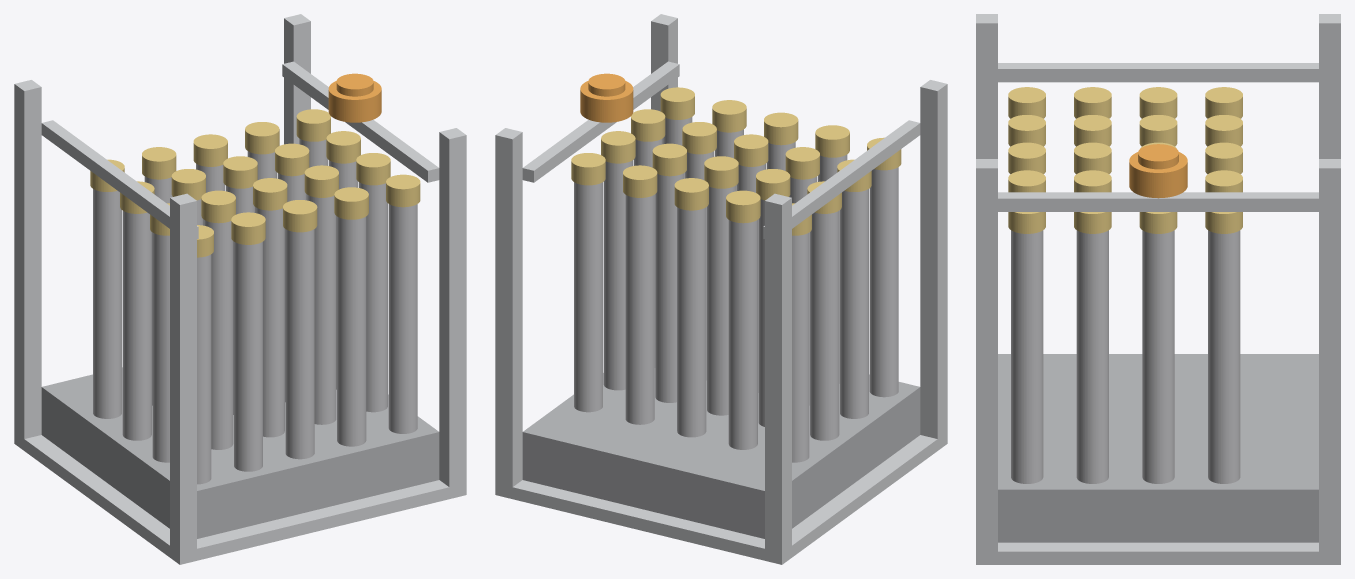
Rendered from sci06_sample_cache_cache.glb.
3 views of the same model, side by side, from view 1: azimuth 30°, elevation 25°; view 2: azimuth 150°, elevation 25°; view 3: azimuth 270°, elevation 25° (orthographic). The views are drawn at different scales.
Visible parts, largest first — view 1: tubes, slot_frame, rack, tube_caps, lid_frame, port_1; view 2: tubes, slot_frame, rack, tube_caps, lid_frame, port_1; view 3: rack, tubes, slot_frame, tube_caps, lid_frame, port_1.
Boxes of the visible parts, bbox=[...] form: tubes: bbox=[93, 138, 417, 484]; slot_frame: bbox=[14, 14, 466, 564]; rack: bbox=[41, 367, 439, 538]; tube_caps: bbox=[90, 109, 420, 257]; lid_frame: bbox=[41, 61, 439, 238]; port_1: bbox=[328, 73, 381, 122]; tubes: bbox=[574, 117, 898, 462]; slot_frame: bbox=[495, 14, 947, 564]; rack: bbox=[522, 368, 920, 538]; tube_caps: bbox=[571, 87, 901, 235]; lid_frame: bbox=[522, 61, 920, 238]; port_1: bbox=[580, 73, 633, 122]; rack: bbox=[998, 354, 1318, 542]; tubes: bbox=[1011, 230, 1240, 483]; slot_frame: bbox=[976, 14, 1340, 564]; tube_caps: bbox=[1008, 87, 1242, 233]; lid_frame: bbox=[998, 63, 1318, 211]; port_1: bbox=[1129, 144, 1187, 198].
Size of the model in its own units: 0.5 by 0.6 by 0.5.
